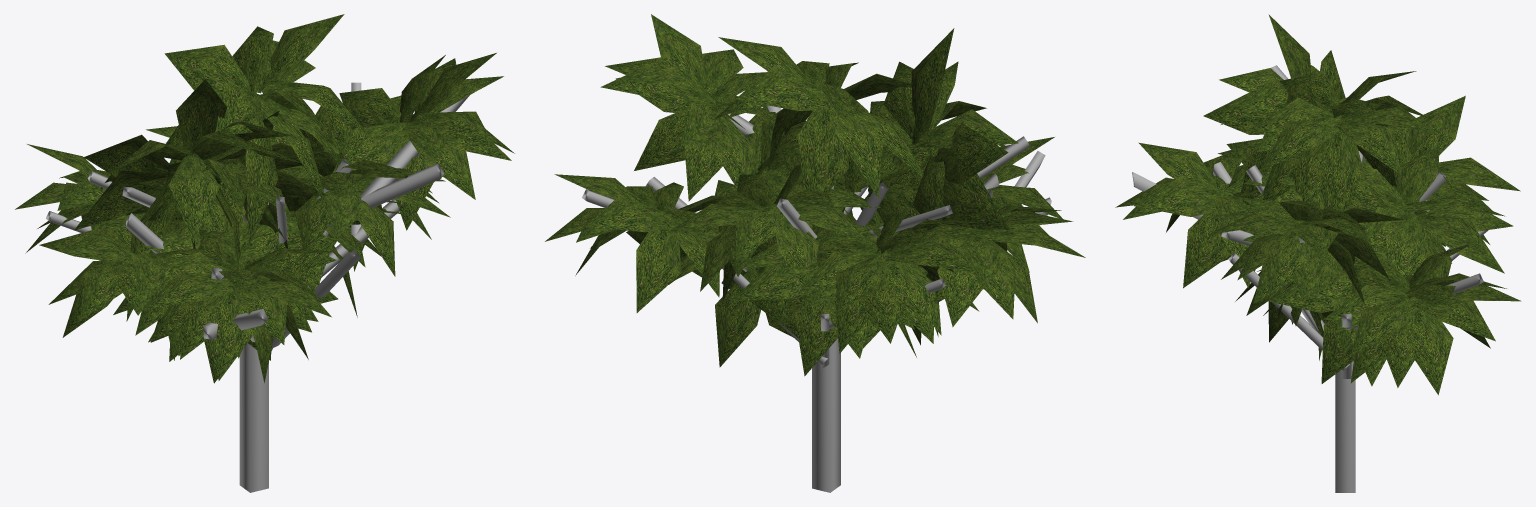
File: tree.fbx
3 views of the same model, side by side, from view 1: azimuth 30°, elevation 25°; view 2: azimuth 150°, elevation 25°; view 3: azimuth 270°, elevation 25° (orthographic). The views are drawn at different scales.
Visible parts, largest first — view 1: pPlane19; view 2: pPlane19; view 3: pPlane19.
Part boxes in pixels (x1=…): pPlane19: x1=15, y1=14, x2=514, y2=492; pPlane19: x1=545, y1=14, x2=1085, y2=492; pPlane19: x1=1115, y1=14, x2=1521, y2=492.
Size of the model in its own units: 1990 by 1905 by 1621.
